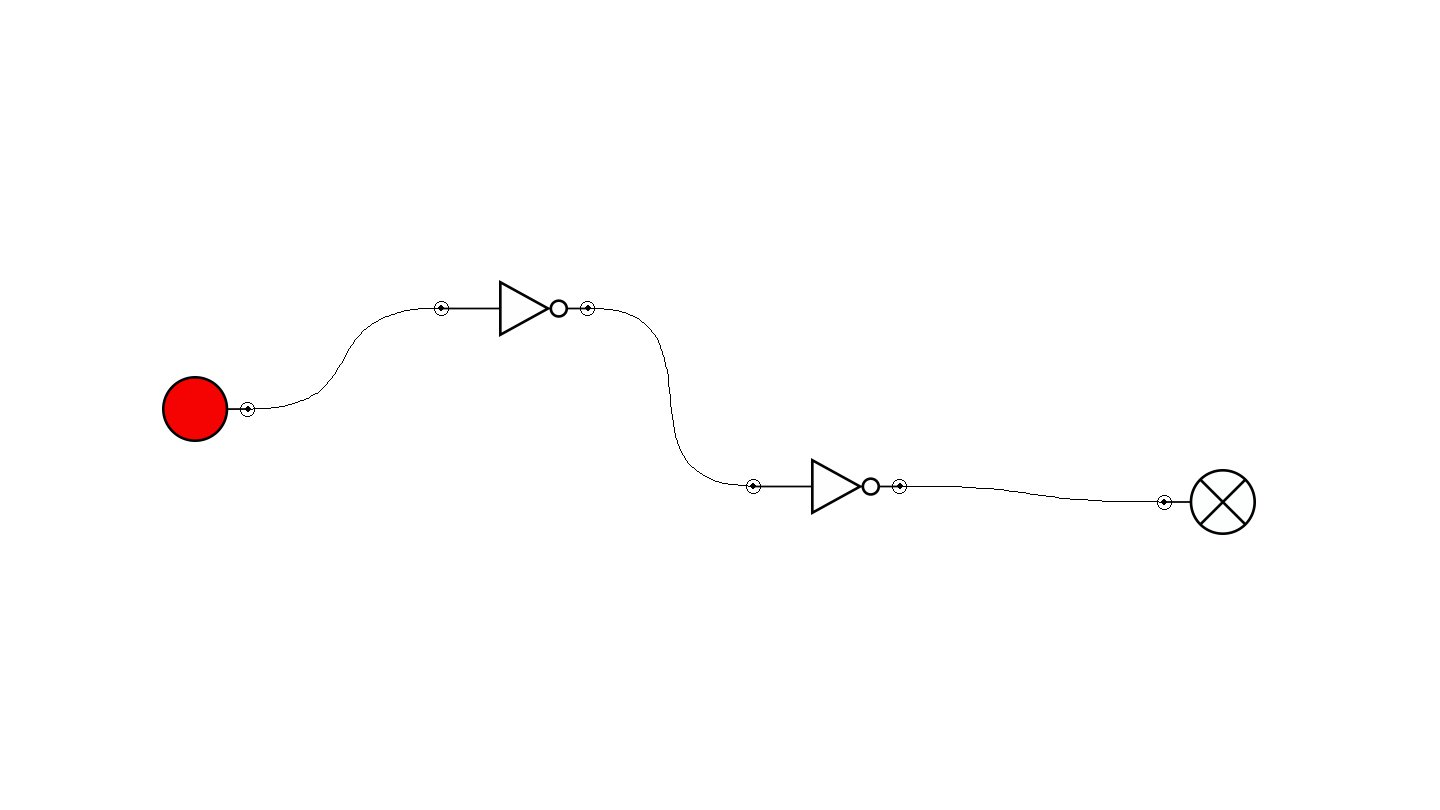bulb: (1157, 469, 1256, 535)
not: (434, 280, 595, 337), (746, 458, 907, 515)
switch_False: (162, 376, 255, 442)
